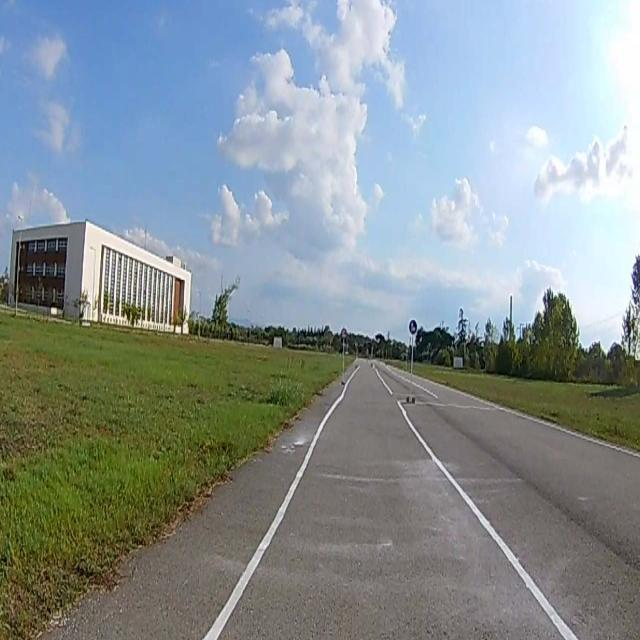ilerisag: (409, 319, 417, 335)
